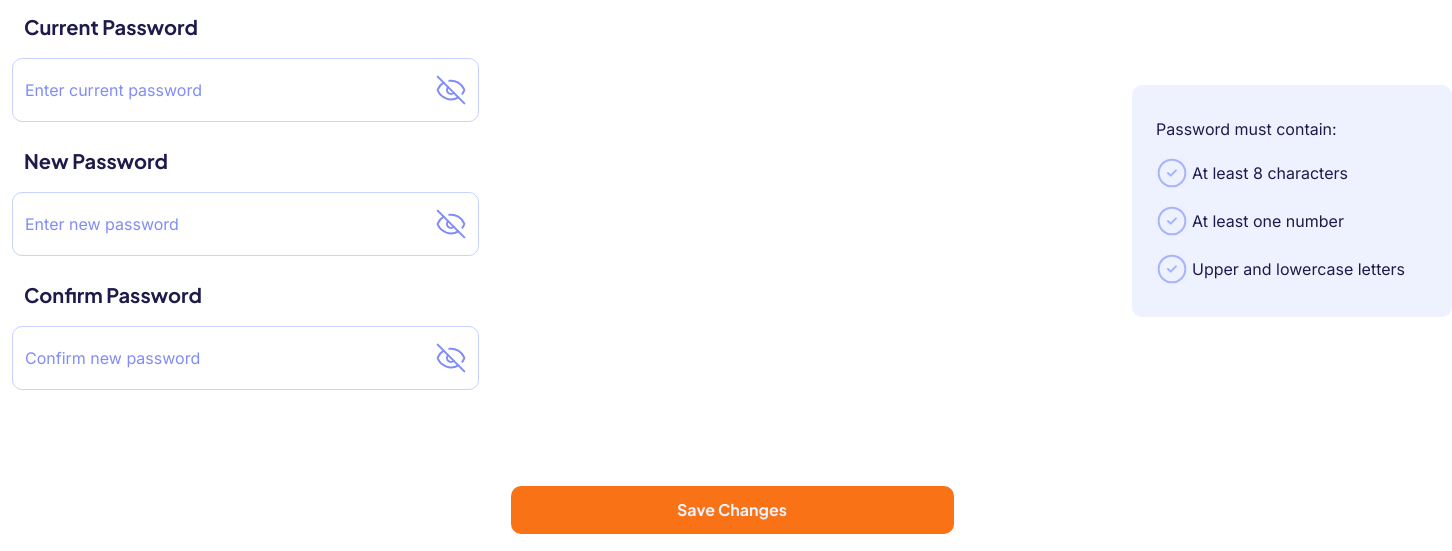
Test: ChangePasswordForm — after a successful change › confirms the change and ends the session it just invalidated
Step 1. Type "OldPassw0rd" into the password field labelled "Current Password" → (246, 90), box [12,58,479,122]
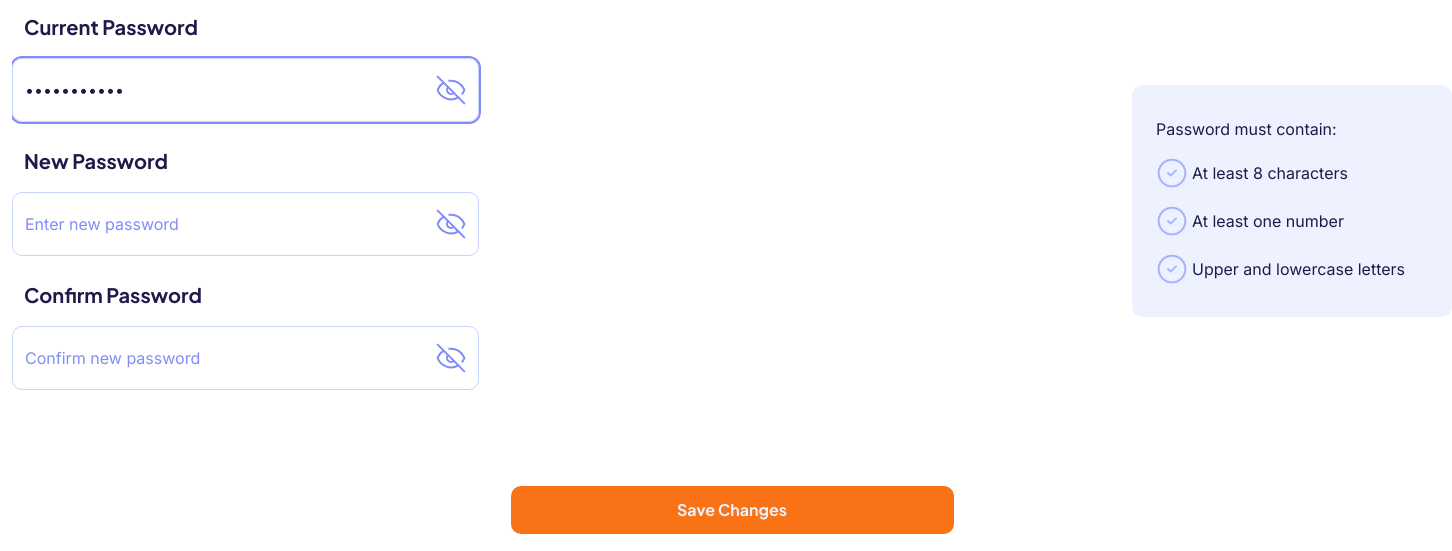
Step 2. Type "NewPassw0rd" into the password field labelled "New Password" → (246, 224), box [12,192,479,256]
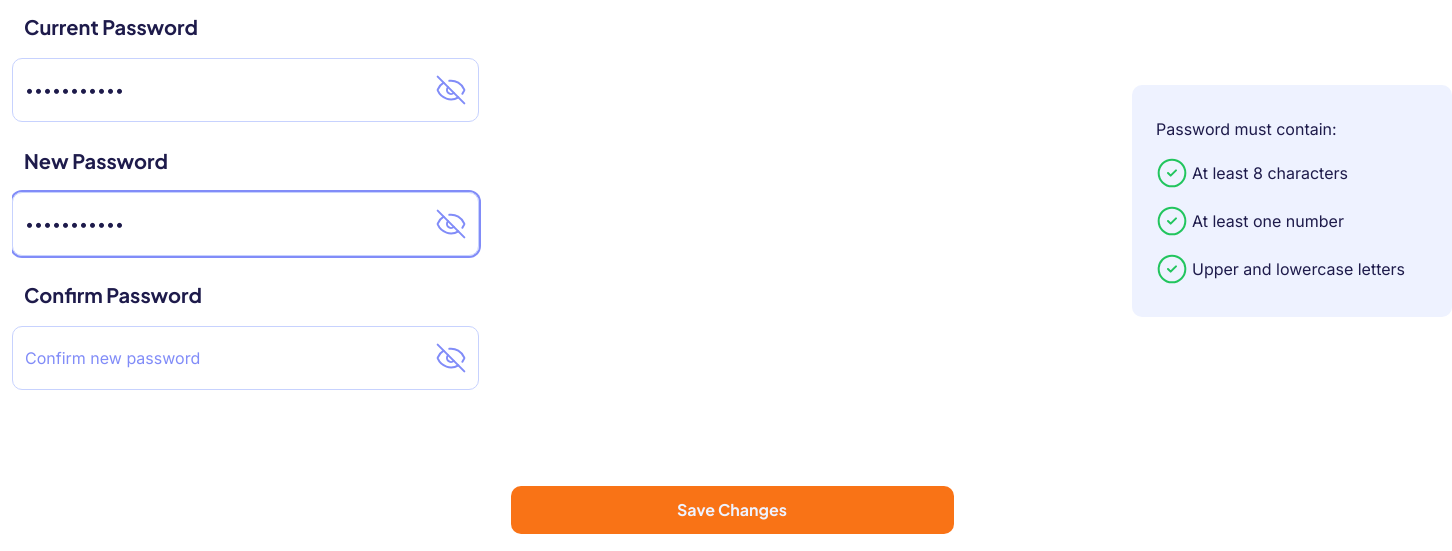
Step 3. Type "NewPassw0rd" into the password field labelled "Confirm Password" → (246, 358), box [12,326,479,390]
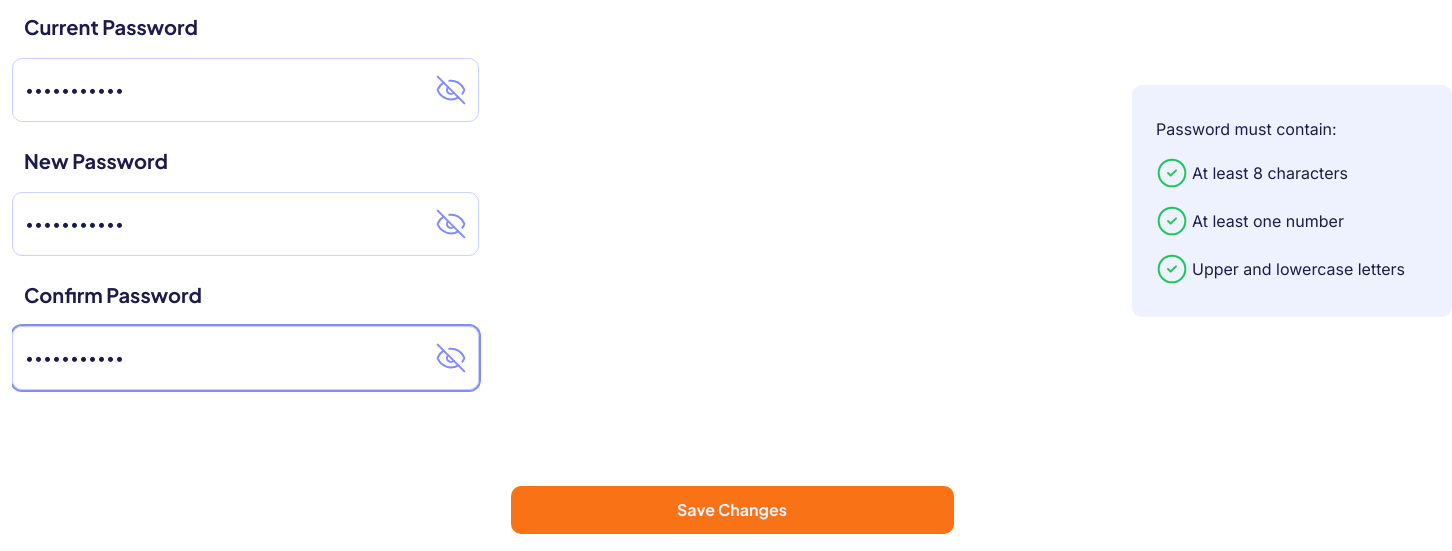
Step 4. Click the button "Save Changes" → (732, 510), box [510,486,954,534]
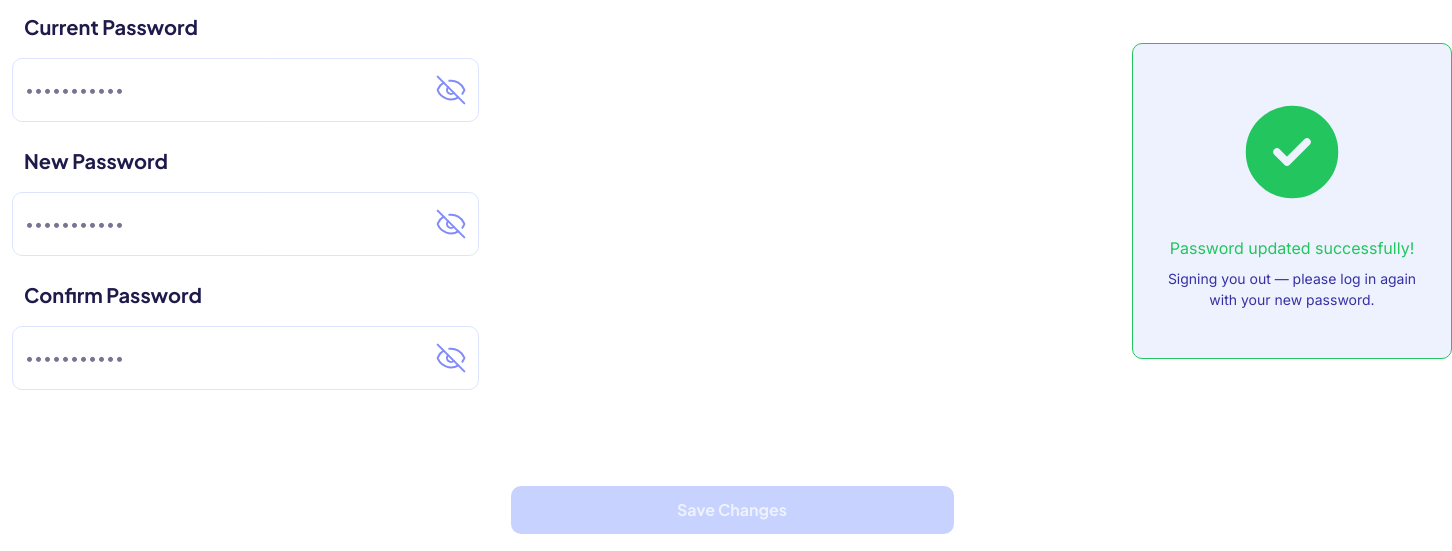
Now the message shows "Password updated successfully", box [1170,238,1414,258]
